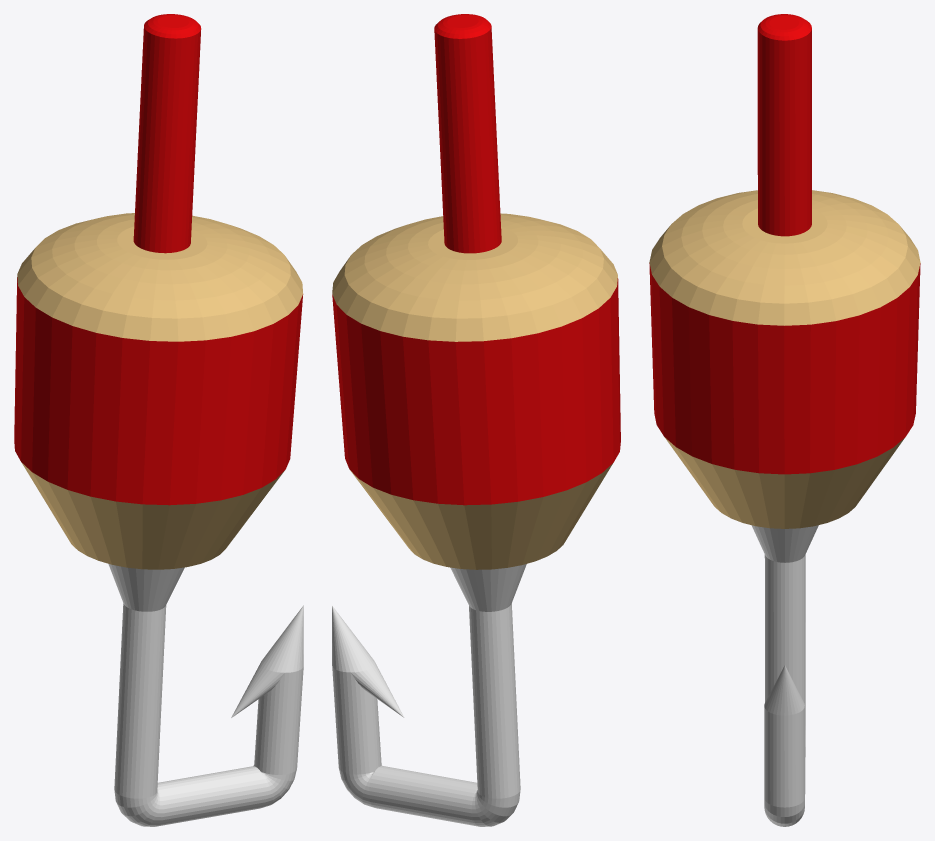
File: POPLAVOK.fbx
3 renders of one model, left to right at view 1: azimuth 30°, elevation 25°; view 2: azimuth 150°, elevation 25°; view 3: azimuth 270°, elevation 25°, orthographic. The views are drawn at different scales.
Parts seen in each view (by area): view 1: Цилиндр.003; view 2: Цилиндр.003; view 3: Цилиндр.003.
Boxes of the visible parts, x1,y1,x2,y2 form: Цилиндр.003: (14,14,303,826); Цилиндр.003: (332,14,620,826); Цилиндр.003: (649,14,920,826).
Bounding box in the file's own units: 25.4 × 72.24 × 23.3.
